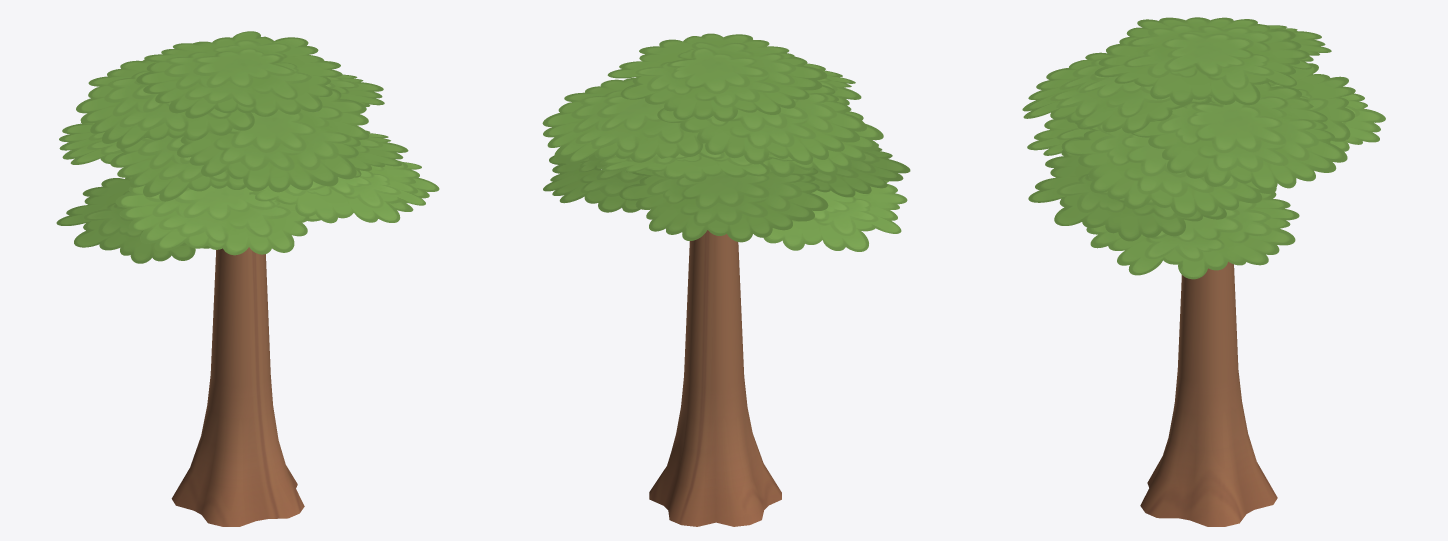
Rendered from elyseTree_5.fbx.
3 views of the same model, side by side, from view 1: azimuth 30°, elevation 25°; view 2: azimuth 150°, elevation 25°; view 3: azimuth 270°, elevation 25° (orthographic). The views are drawn at different scales.
Parts seen in each view (by area): view 1: Plane.006, trunk_lowP; view 2: Plane.006, trunk_lowP; view 3: Plane.006, trunk_lowP.
Part boxes in pixels (box(x1,y1,x2,y2)): Plane.006: box(56, 31, 439, 263); trunk_lowP: box(171, 247, 304, 526); Plane.006: box(542, 33, 910, 251); trunk_lowP: box(649, 230, 781, 526); Plane.006: box(1022, 17, 1385, 279); trunk_lowP: box(1140, 261, 1277, 526).
Size of the model in its own units: 221 by 210 by 187.
2 materials, 2 textured.
